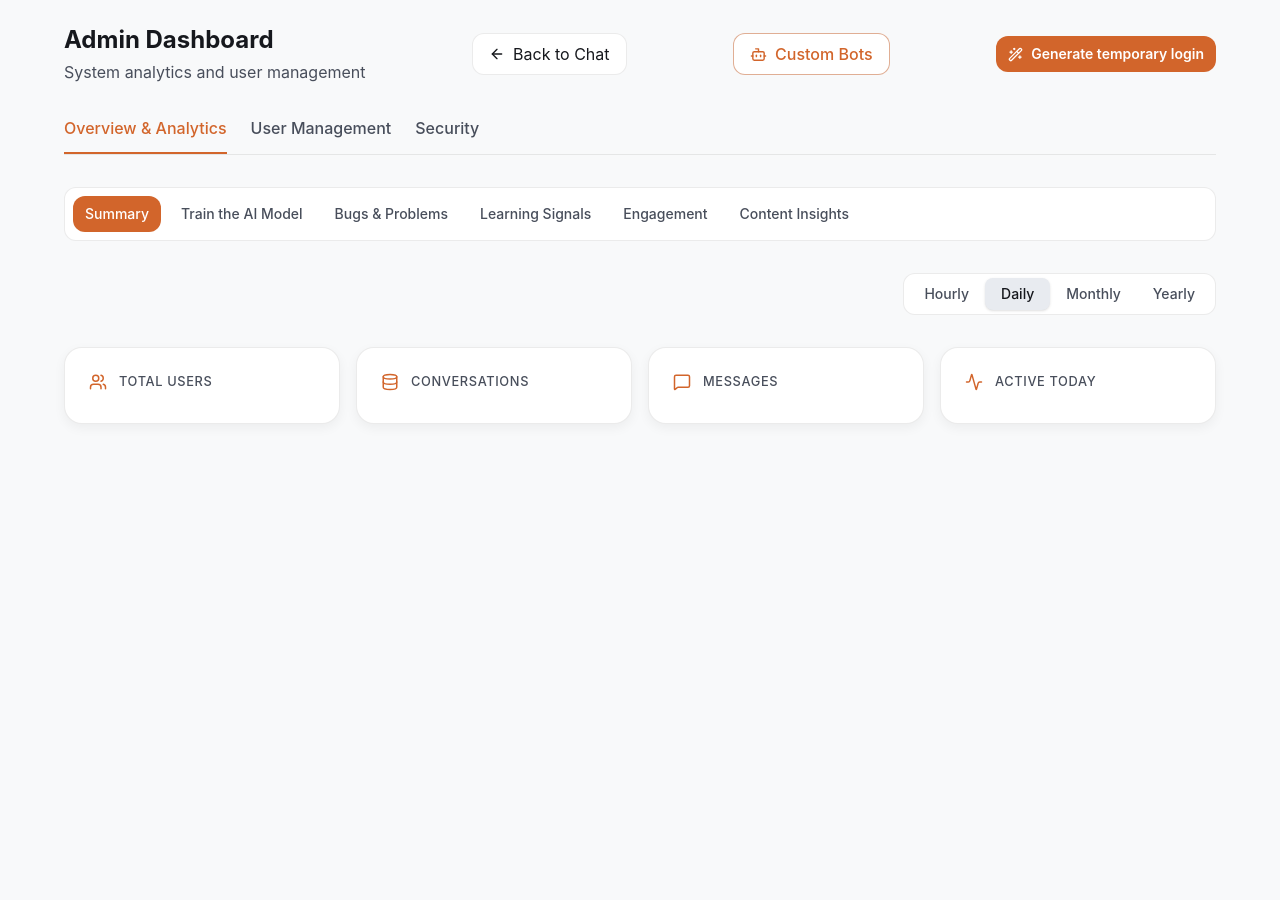
it: password recovery UI › shows a manual-copy error when the clipboard fallback fails
The width and height of the screenshot is (1280, 900).
Click the button "User Management". click: (321, 135)
box: [251,116,391,154]
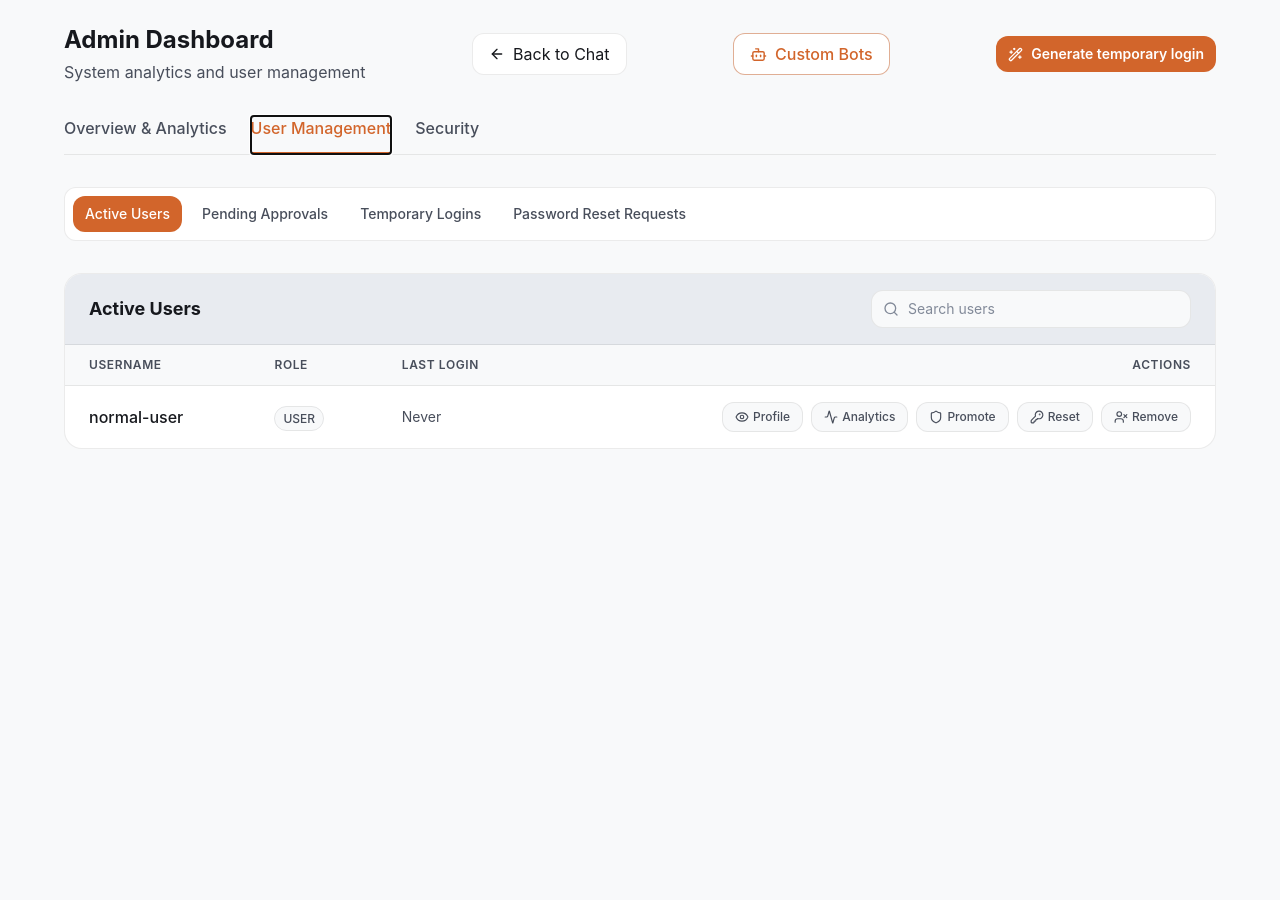
Click the button titled "Reset password". click: (1055, 417)
box: [1017,402,1093,432]
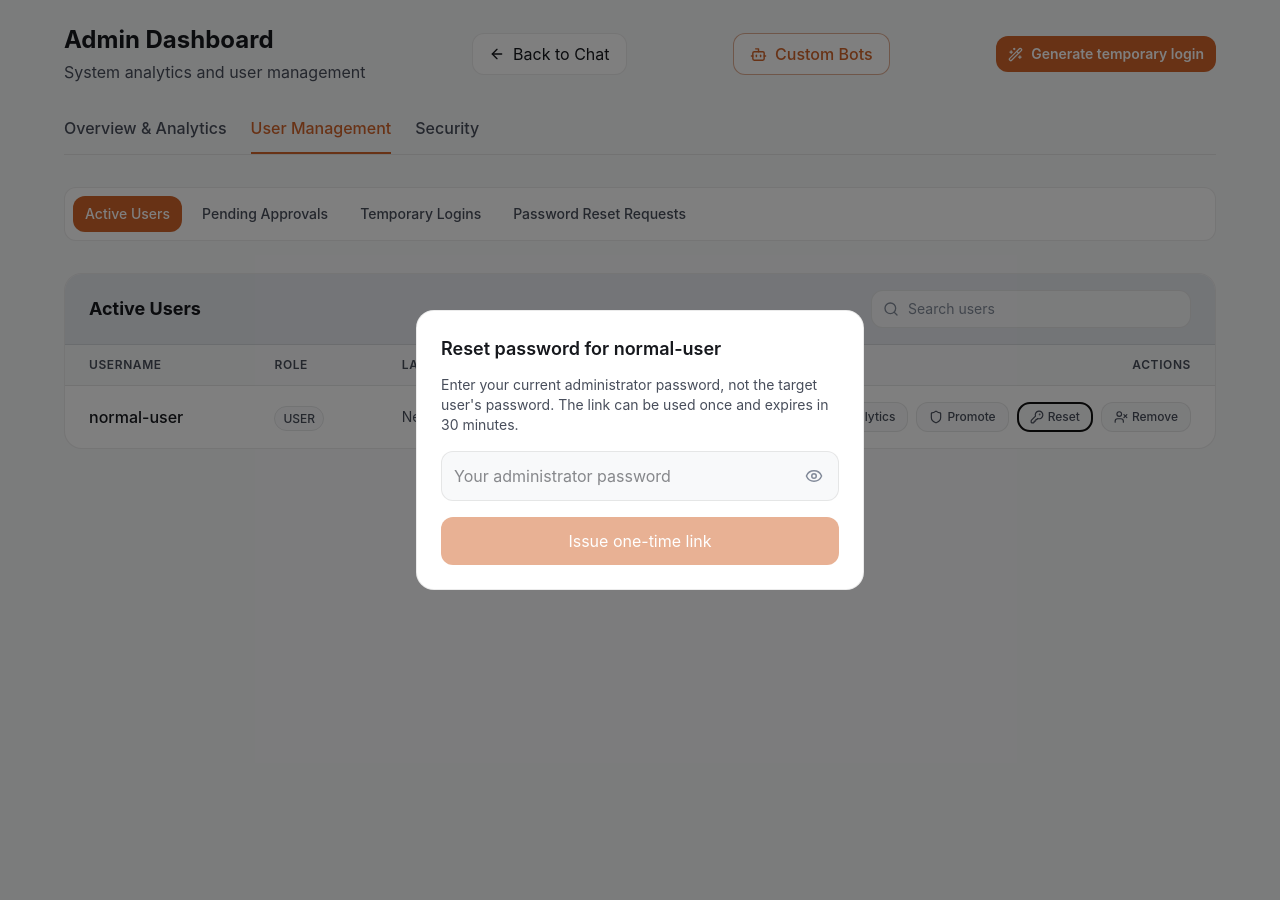
Type "Admin-Password-1" into the password field with placeholder "Your administrator password". click: (640, 476)
box: [441,451,839,501]
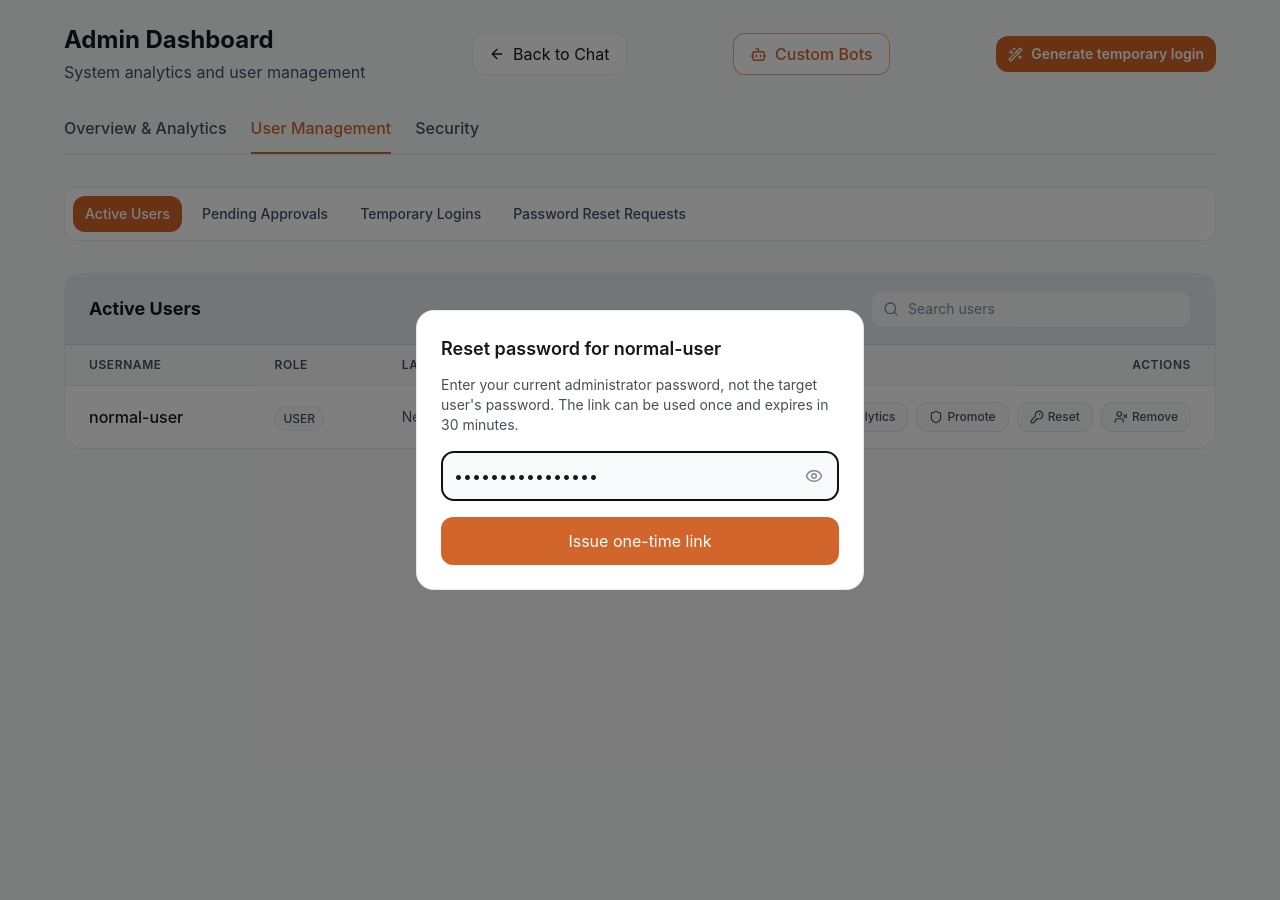
Click the button "Issue one-time link". click: (640, 541)
box: [441,517,839,565]
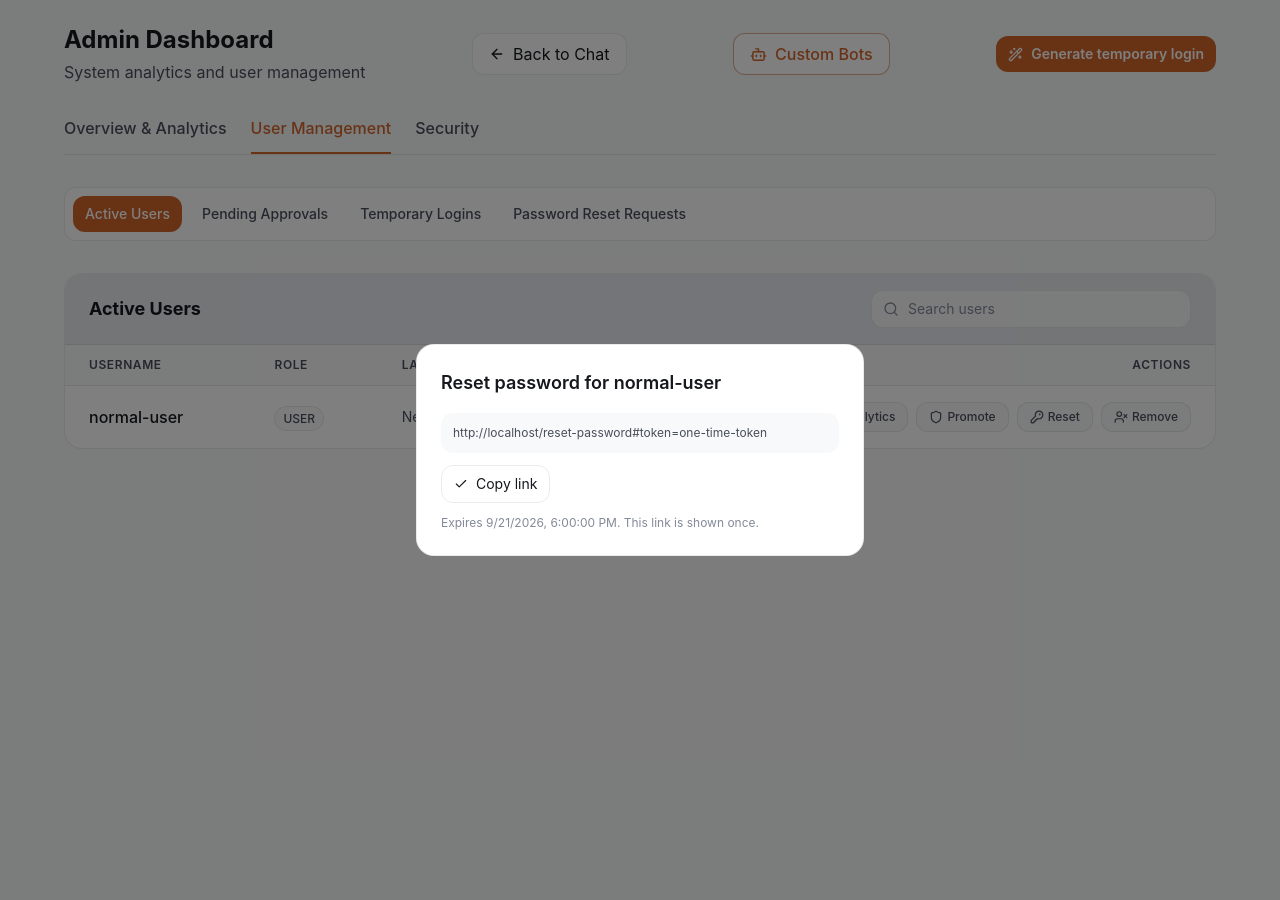
Click the button "Copy link". click: (496, 484)
box: [441,465,550,503]
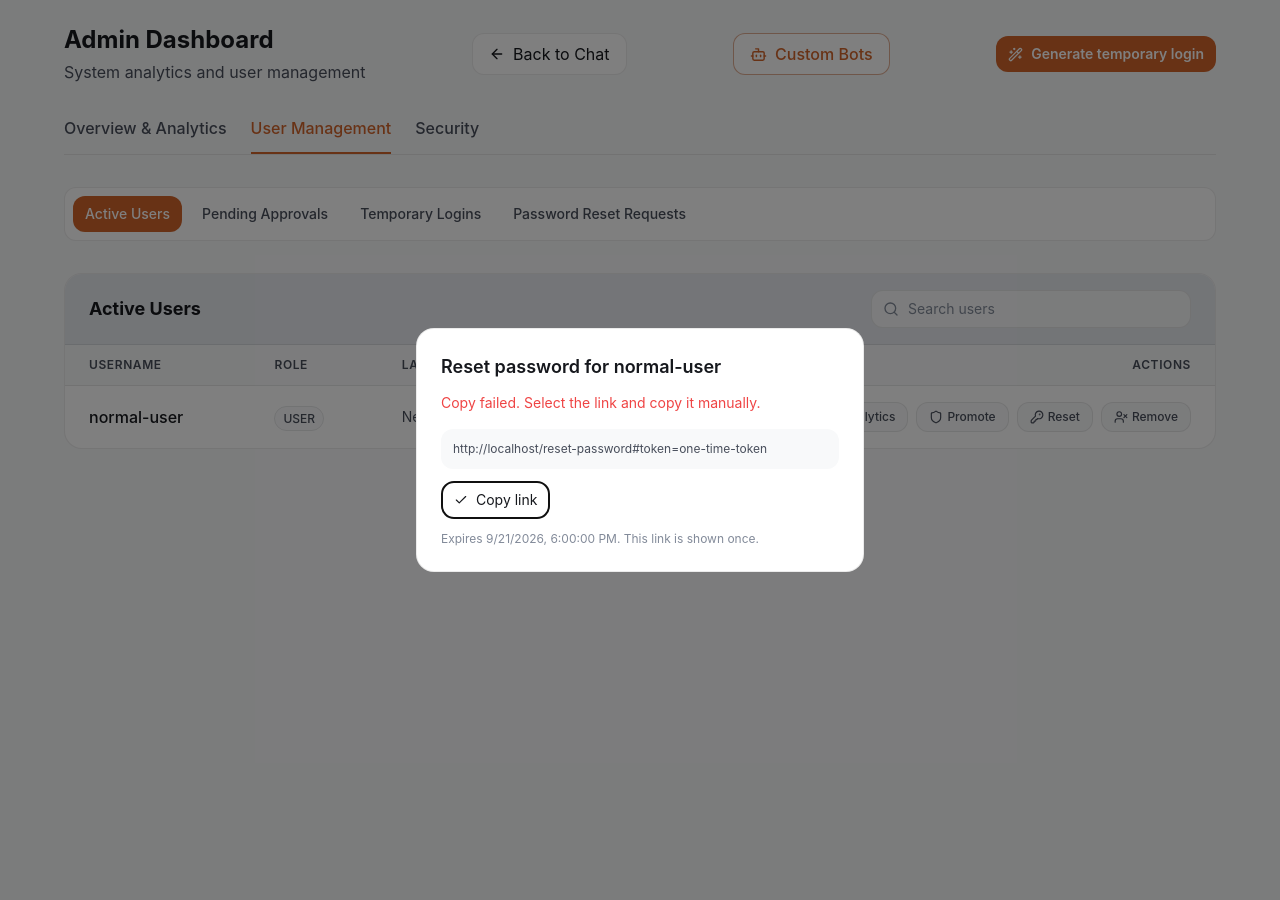
Check: the text "Copy failed. Select the link and copy it manually." is shown, box [441,394,761,411]
